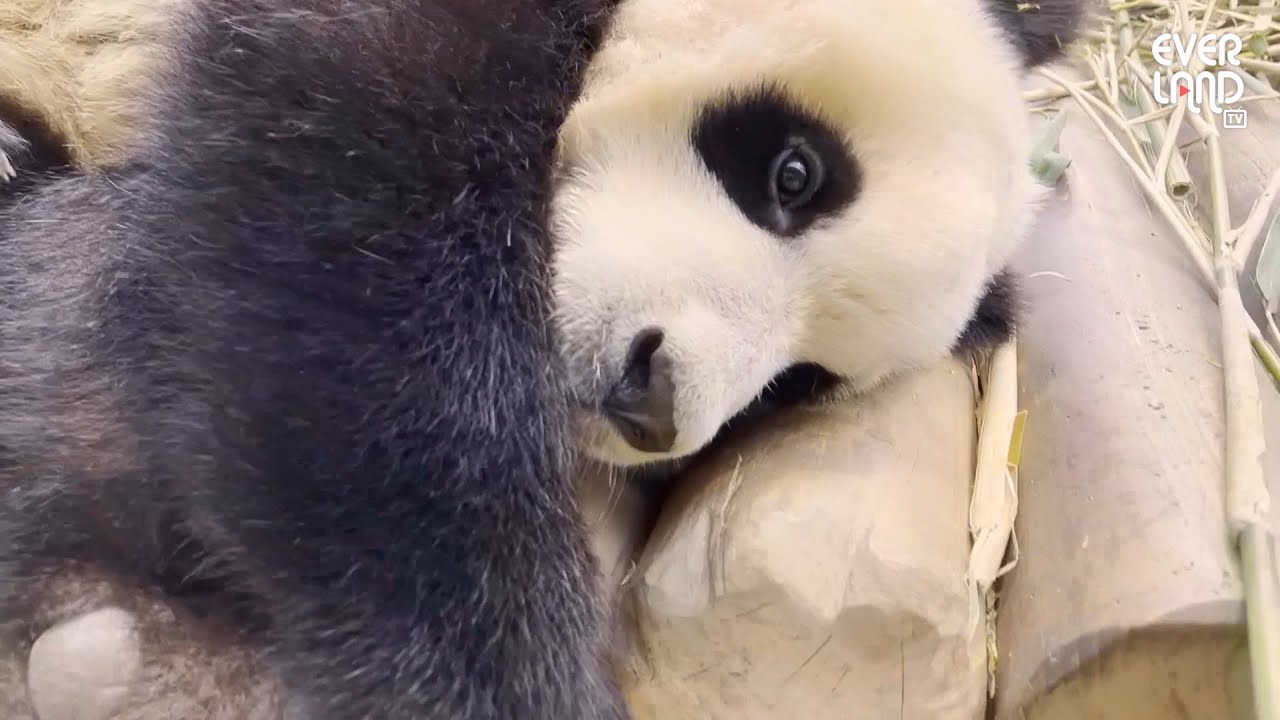panda: (86, 4, 1059, 625)
